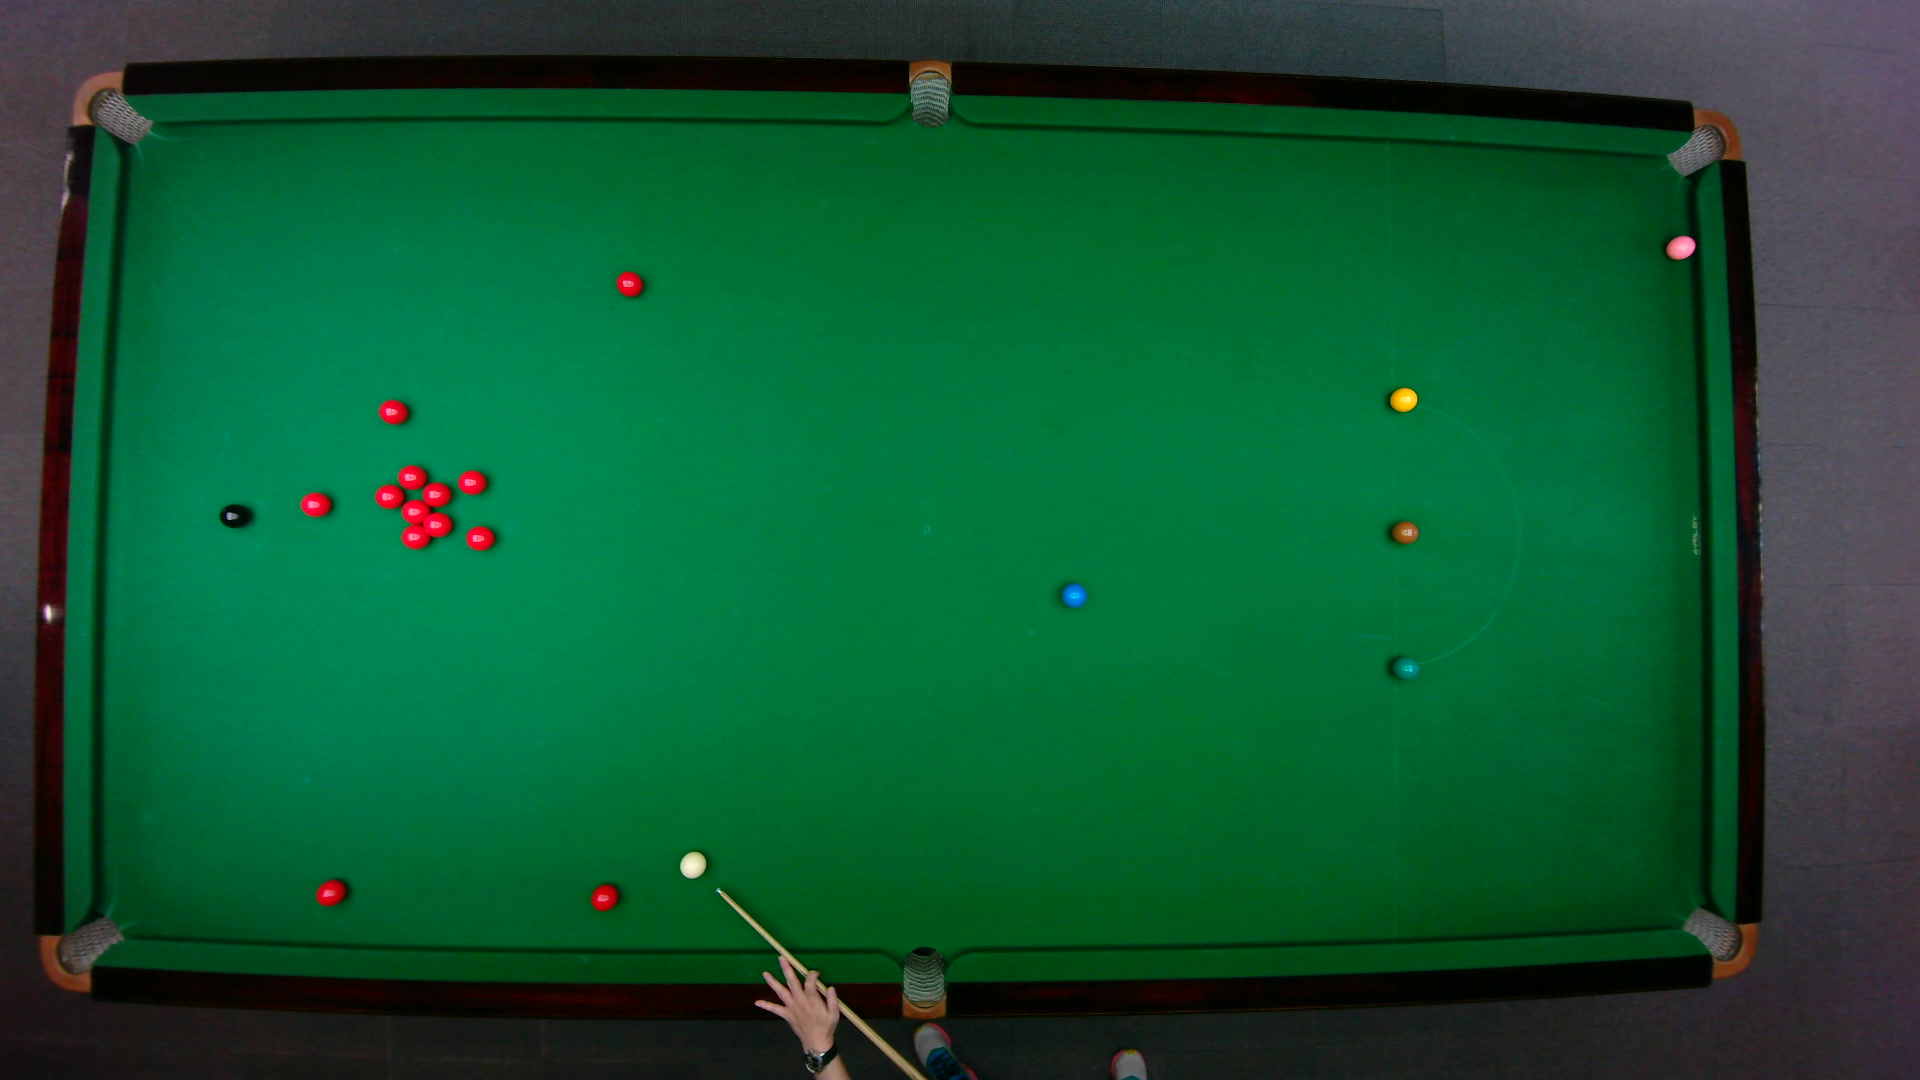bag: (38, 914, 125, 992), (69, 69, 153, 145), (1679, 905, 1756, 978), (1663, 107, 1741, 177), (901, 944, 944, 1021), (909, 57, 949, 128)
black: (218, 502, 251, 529)
blue: (1058, 582, 1087, 608)
brown: (1389, 520, 1418, 545)
cue: (715, 887, 924, 1077)
green: (1390, 653, 1419, 680)
pink: (1663, 232, 1697, 260)
red: (297, 489, 332, 517), (588, 881, 618, 913), (314, 877, 347, 906), (396, 462, 429, 491), (372, 483, 406, 509), (464, 524, 496, 551), (421, 510, 452, 538), (419, 480, 452, 506), (615, 269, 644, 297), (456, 468, 487, 495), (400, 524, 430, 550), (377, 398, 407, 425), (400, 497, 429, 524)
white: (676, 849, 707, 880)
yellow: (1387, 385, 1419, 411)
zone: (1389, 401, 1519, 666)
